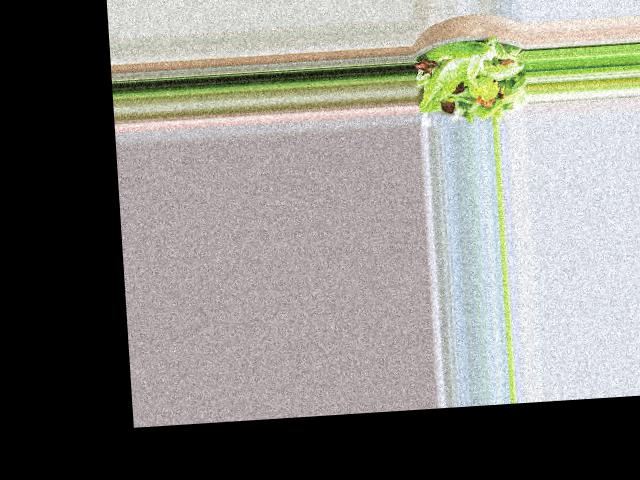lettuce: (423, 37, 522, 121)
